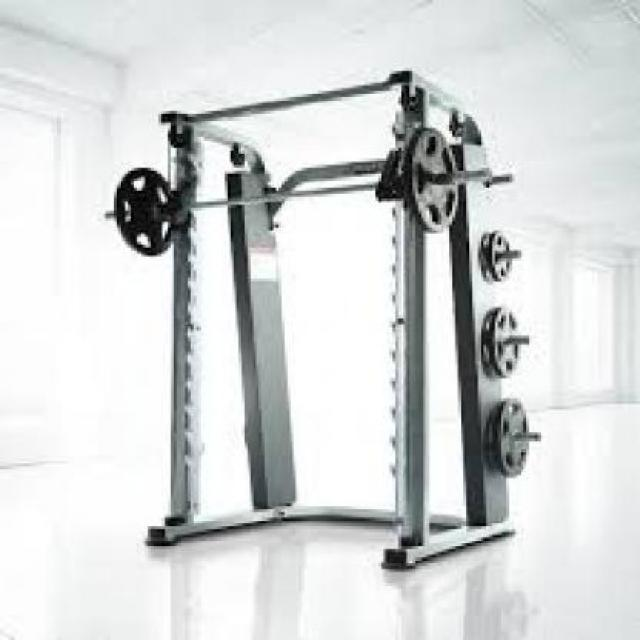smith machine: (103, 69, 545, 574)
